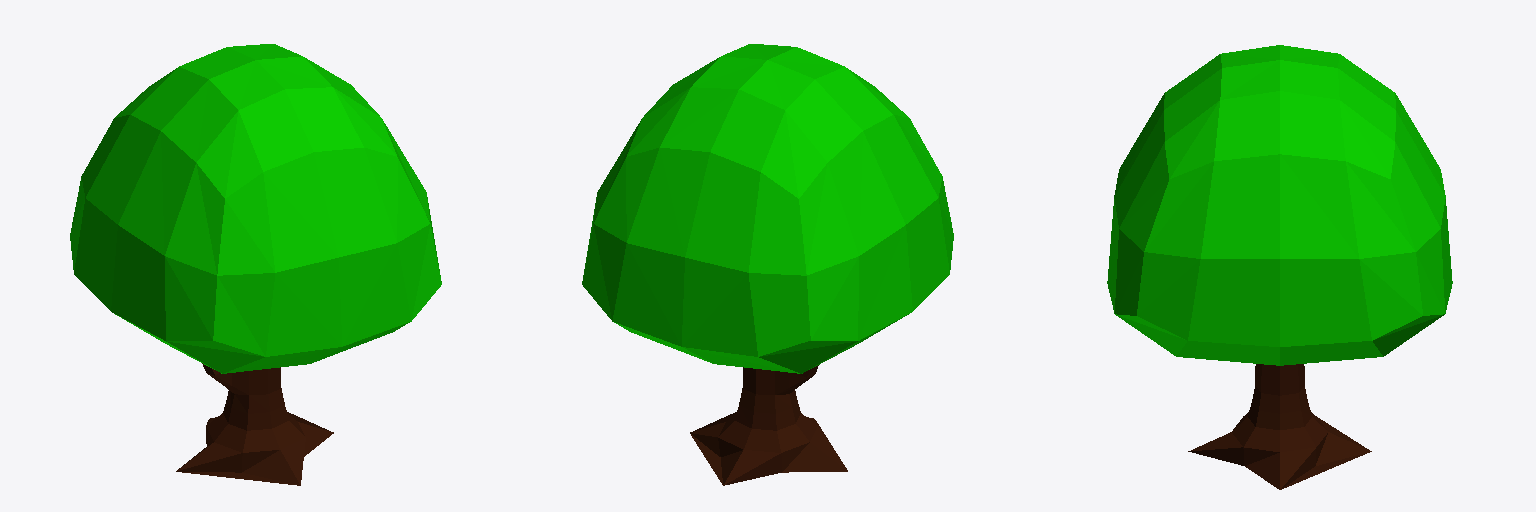
Rendered from buc.obj.
3 views of the same model, side by side, from view 1: azimuth 30°, elevation 25°; view 2: azimuth 150°, elevation 25°; view 3: azimuth 270°, elevation 25° (orthographic).
Visible parts, largest first — view 1: Cube.001, Cube; view 2: Cube.001, Cube; view 3: Cube.001, Cube.
Part boxes in pixels (x1,y1,x2,y2): Cube.001: (70,44,441,373); Cube: (176,363,333,485); Cube.001: (582,44,953,373); Cube: (690,365,847,485); Cube.001: (1107,45,1452,365); Cube: (1188,364,1371,489).
Size of the model in its own units: 12.92 by 16.7 by 13.33.